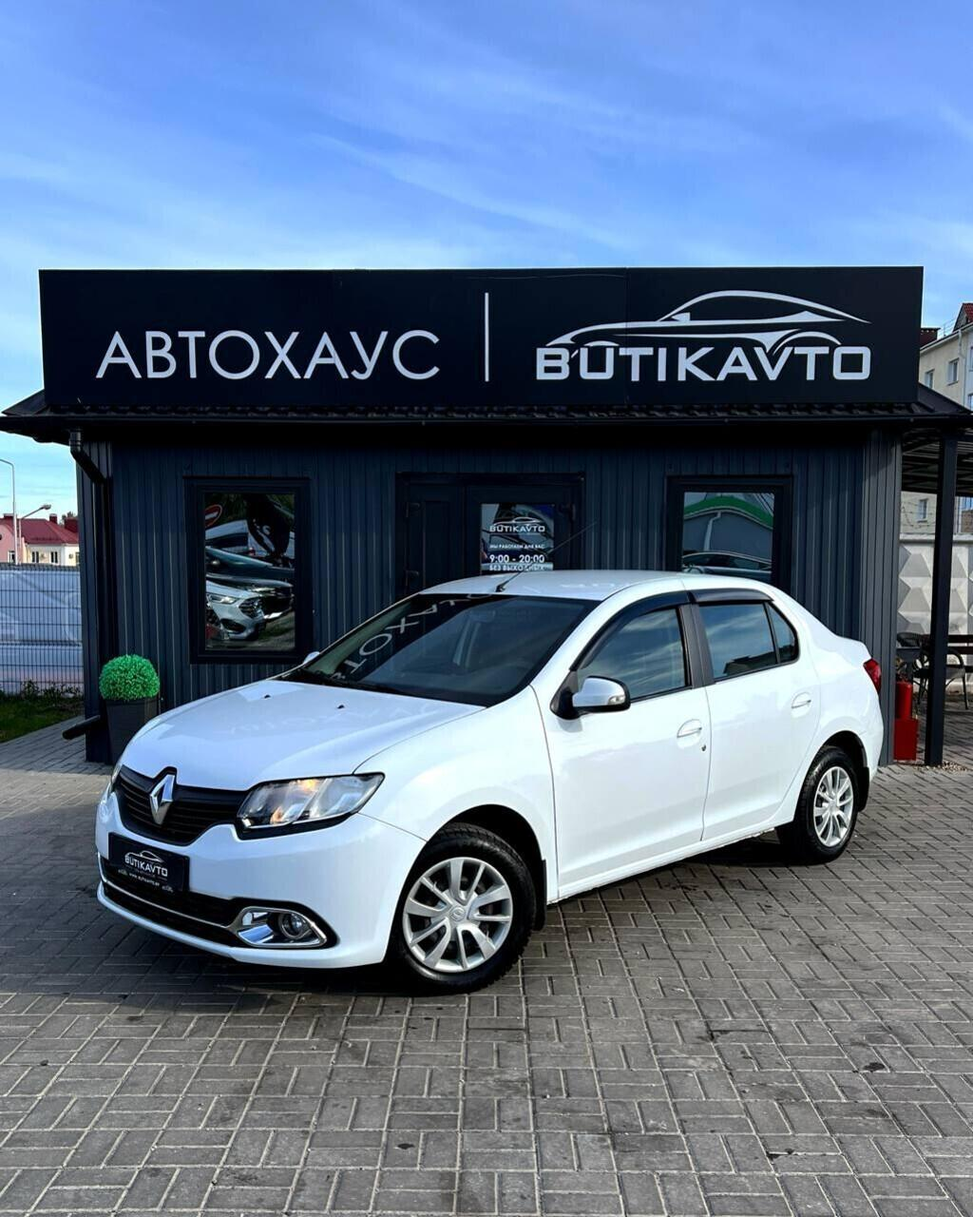Logan_2013-2018: (97, 564, 884, 990)
